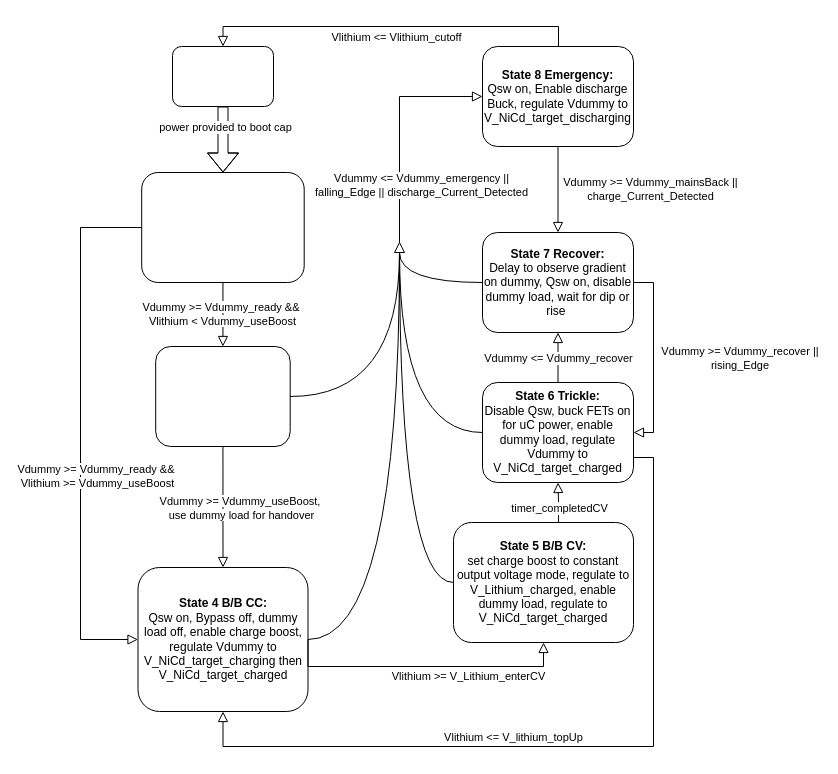
This 838x774 diagram has some shape labels left out. The shapes that lost their labels are listed below. From the top down, each one's box as (x1, y1, x2, y2) in pixels, then its label:
(172, 46, 274, 106): State 9 Off: Everything off, uC dies
(141, 172, 304, 282): State 1 Boot: Enable dummy load, regulate to V_NiCd_target_charging
(155, 346, 290, 446): State 3 Direct: Short buck FETs for direct charging
